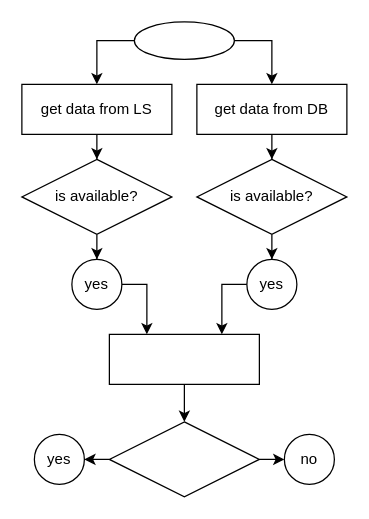
This 369x519 diagram has some shape labels left out. Each missing label, with the centre of its shape:
"compare timestamps" goes at point 183,358.
"is LS data latest?" goes at point 183,459.
"START" goes at point 183,40.
